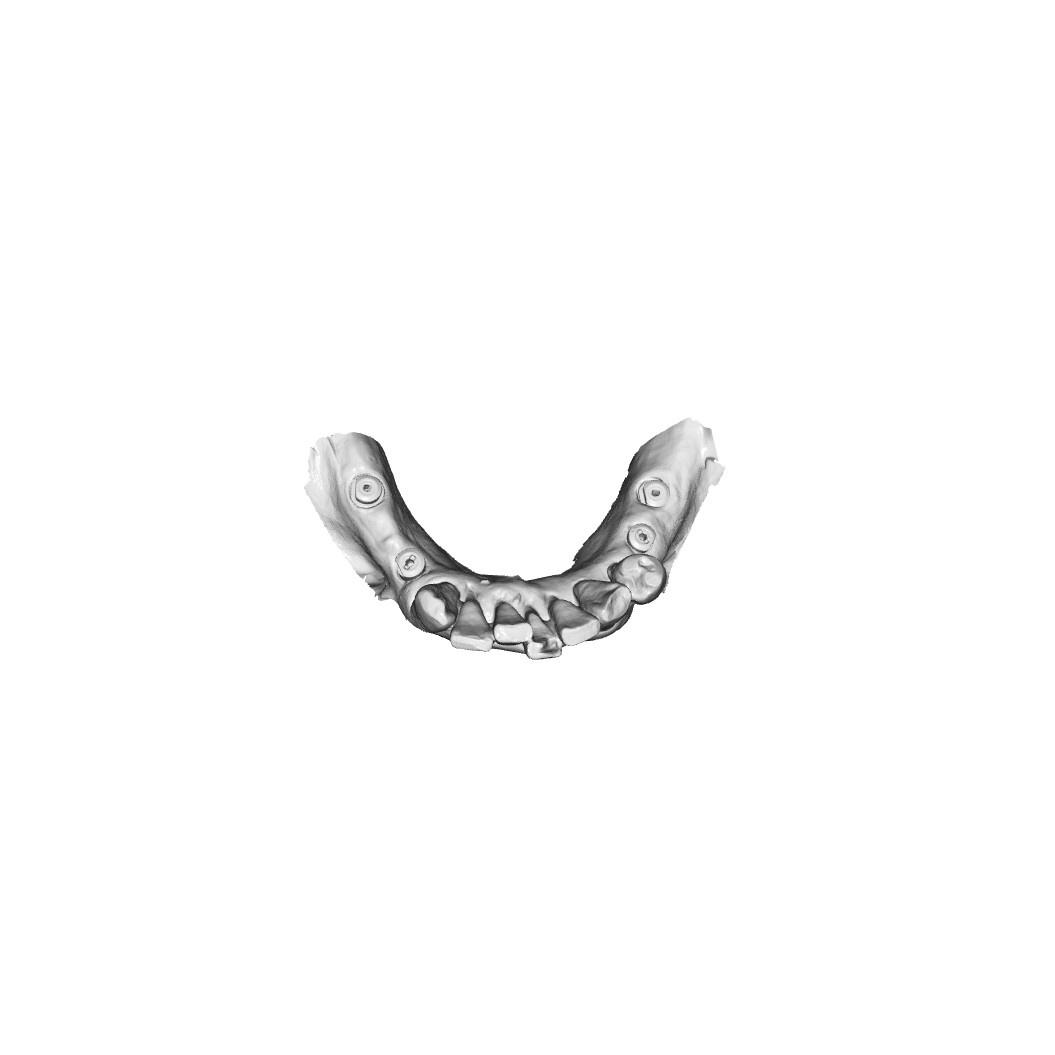canine: (575, 577, 632, 625), (413, 581, 464, 632)
implant: (348, 473, 387, 511), (637, 475, 672, 513)
implant_minus: (628, 520, 664, 558), (394, 545, 429, 584)
incisor: (552, 598, 600, 652), (523, 607, 561, 666), (452, 601, 495, 652), (495, 601, 527, 650)
premolar: (615, 556, 667, 602)
